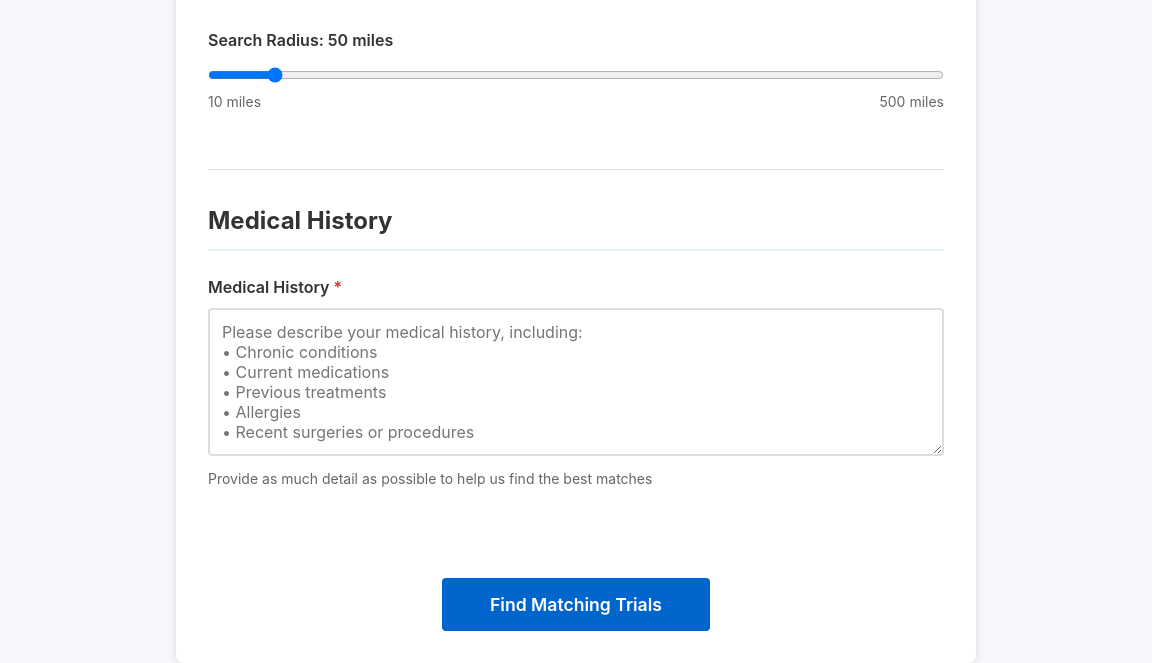
Test case: PatientProfileForm › Form Validation - Required Fields › shows error when gender is not selected
This screenshot has width=1152, height=663.
(page scrolled)
Step 1. Click the button "Find Matching Trials" → (576, 605), box [442,578,710,631]
(page scrolled)
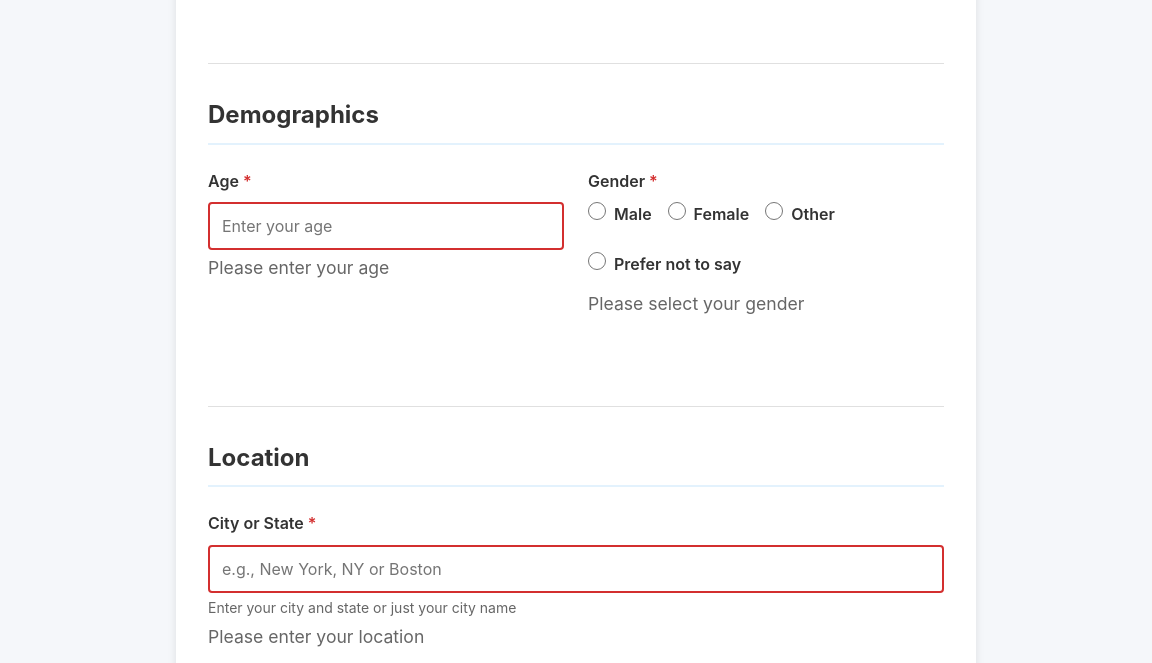
Check: the text "Please select your gender" is shown, box [588,293,804,314]
